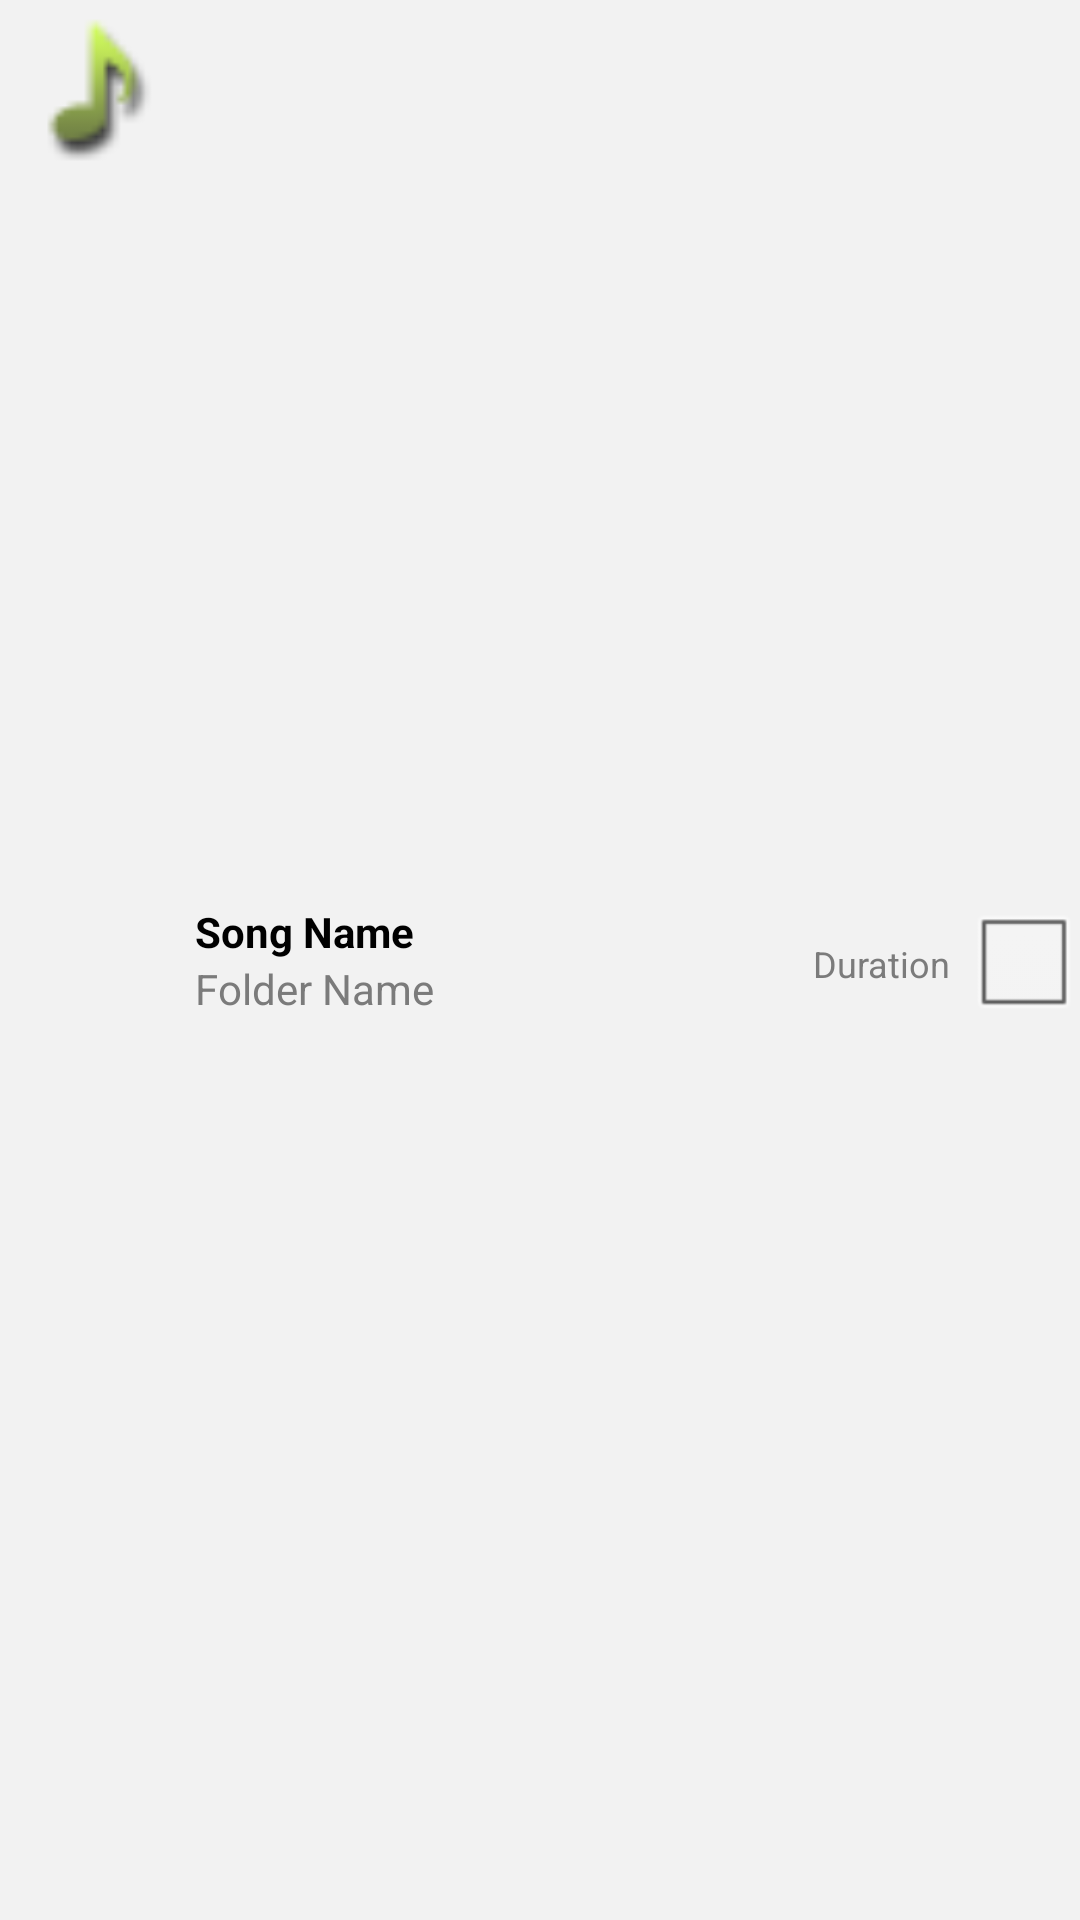

Locate icon controls on the screen. Image size 1080w x 1920h, boxes as bbox=(x1, y1, x2, y2).
music: bbox=(48, 21, 145, 158)
